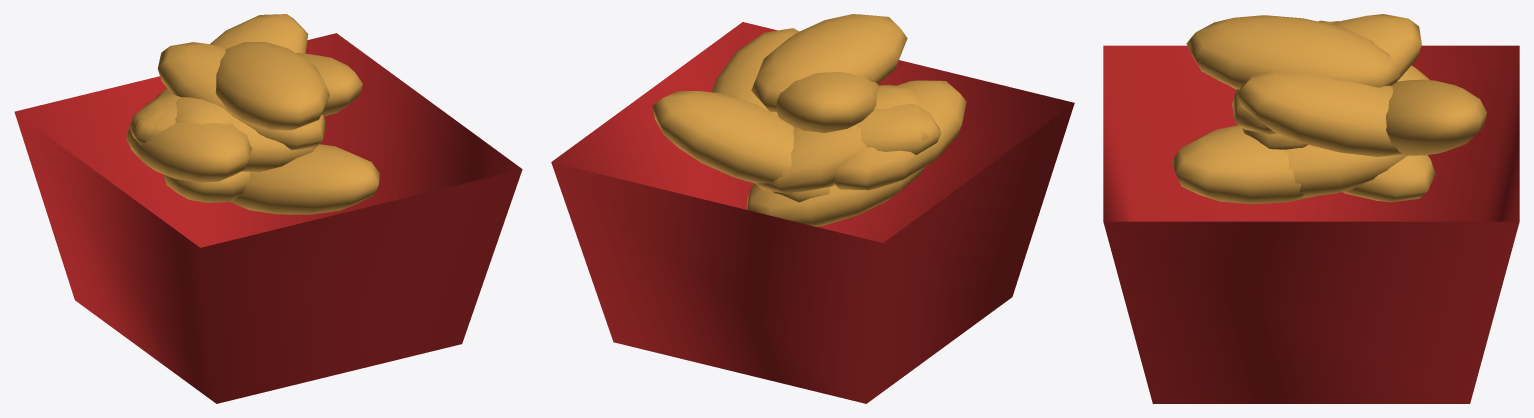
File: bites.glb
3 views of the same model, side by side, from view 1: azimuth 30°, elevation 25°; view 2: azimuth 150°, elevation 25°; view 3: azimuth 270°, elevation 25° (orthographic). The views are drawn at different scales.
Bounding box in the file's own units: 0.1232 × 0.1 × 0.1232.
